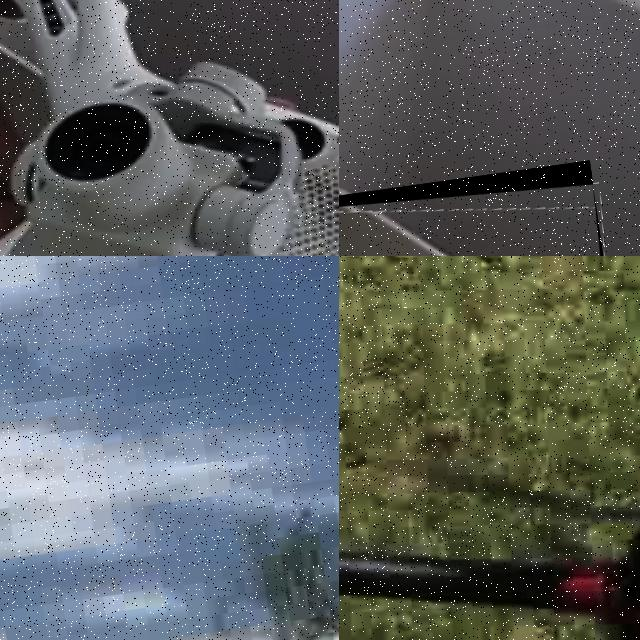0: (339, 256, 640, 640)
drone: (0, 0, 339, 256), (339, 160, 640, 256)
